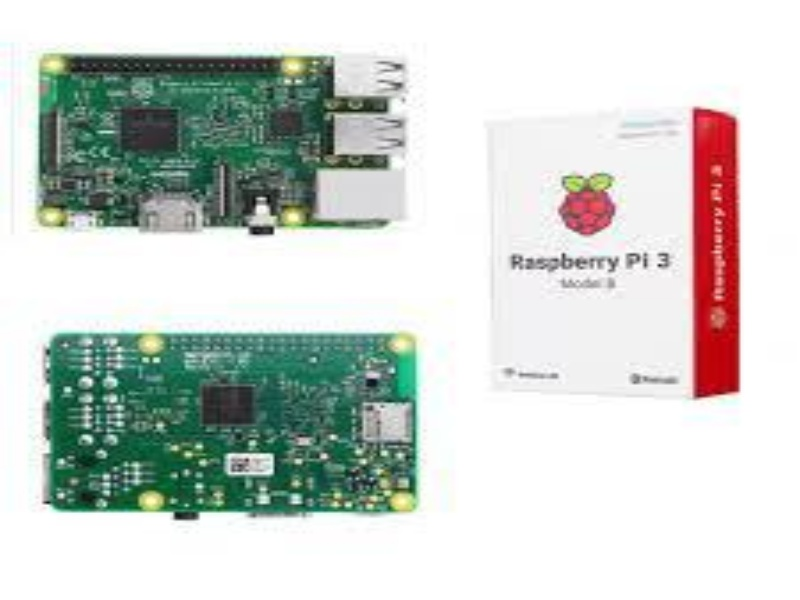raspberrypi: (27, 39, 425, 249), (35, 323, 422, 527)
